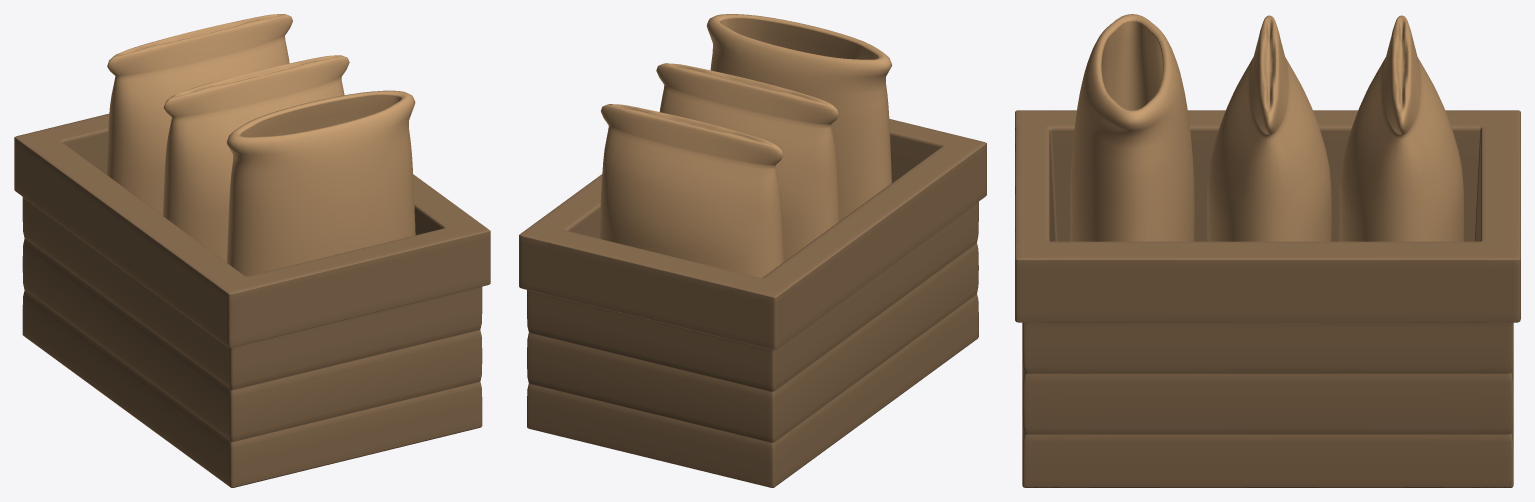
File: seed_bags.glb
The picture shows the model from 3 angles, left to right: view 1: azimuth 30°, elevation 25°; view 2: azimuth 150°, elevation 25°; view 3: azimuth 270°, elevation 25°; orthographic projection. The views are drawn at different scales.
Visible parts, largest first — view 1: seed_bags; view 2: seed_bags; view 3: seed_bags.
Boxes of the visible parts, x1,y1,x2,y2 form: seed_bags: (14, 14, 490, 487); seed_bags: (519, 14, 986, 487); seed_bags: (1015, 14, 1520, 487).
Bounding box in the file's own units: 1.77 × 1.98 × 2.52.
